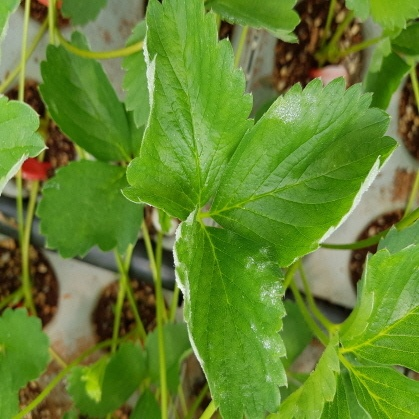Powdery_Leaf: (208, 151, 399, 343), (120, 198, 257, 418), (173, 0, 289, 221)
